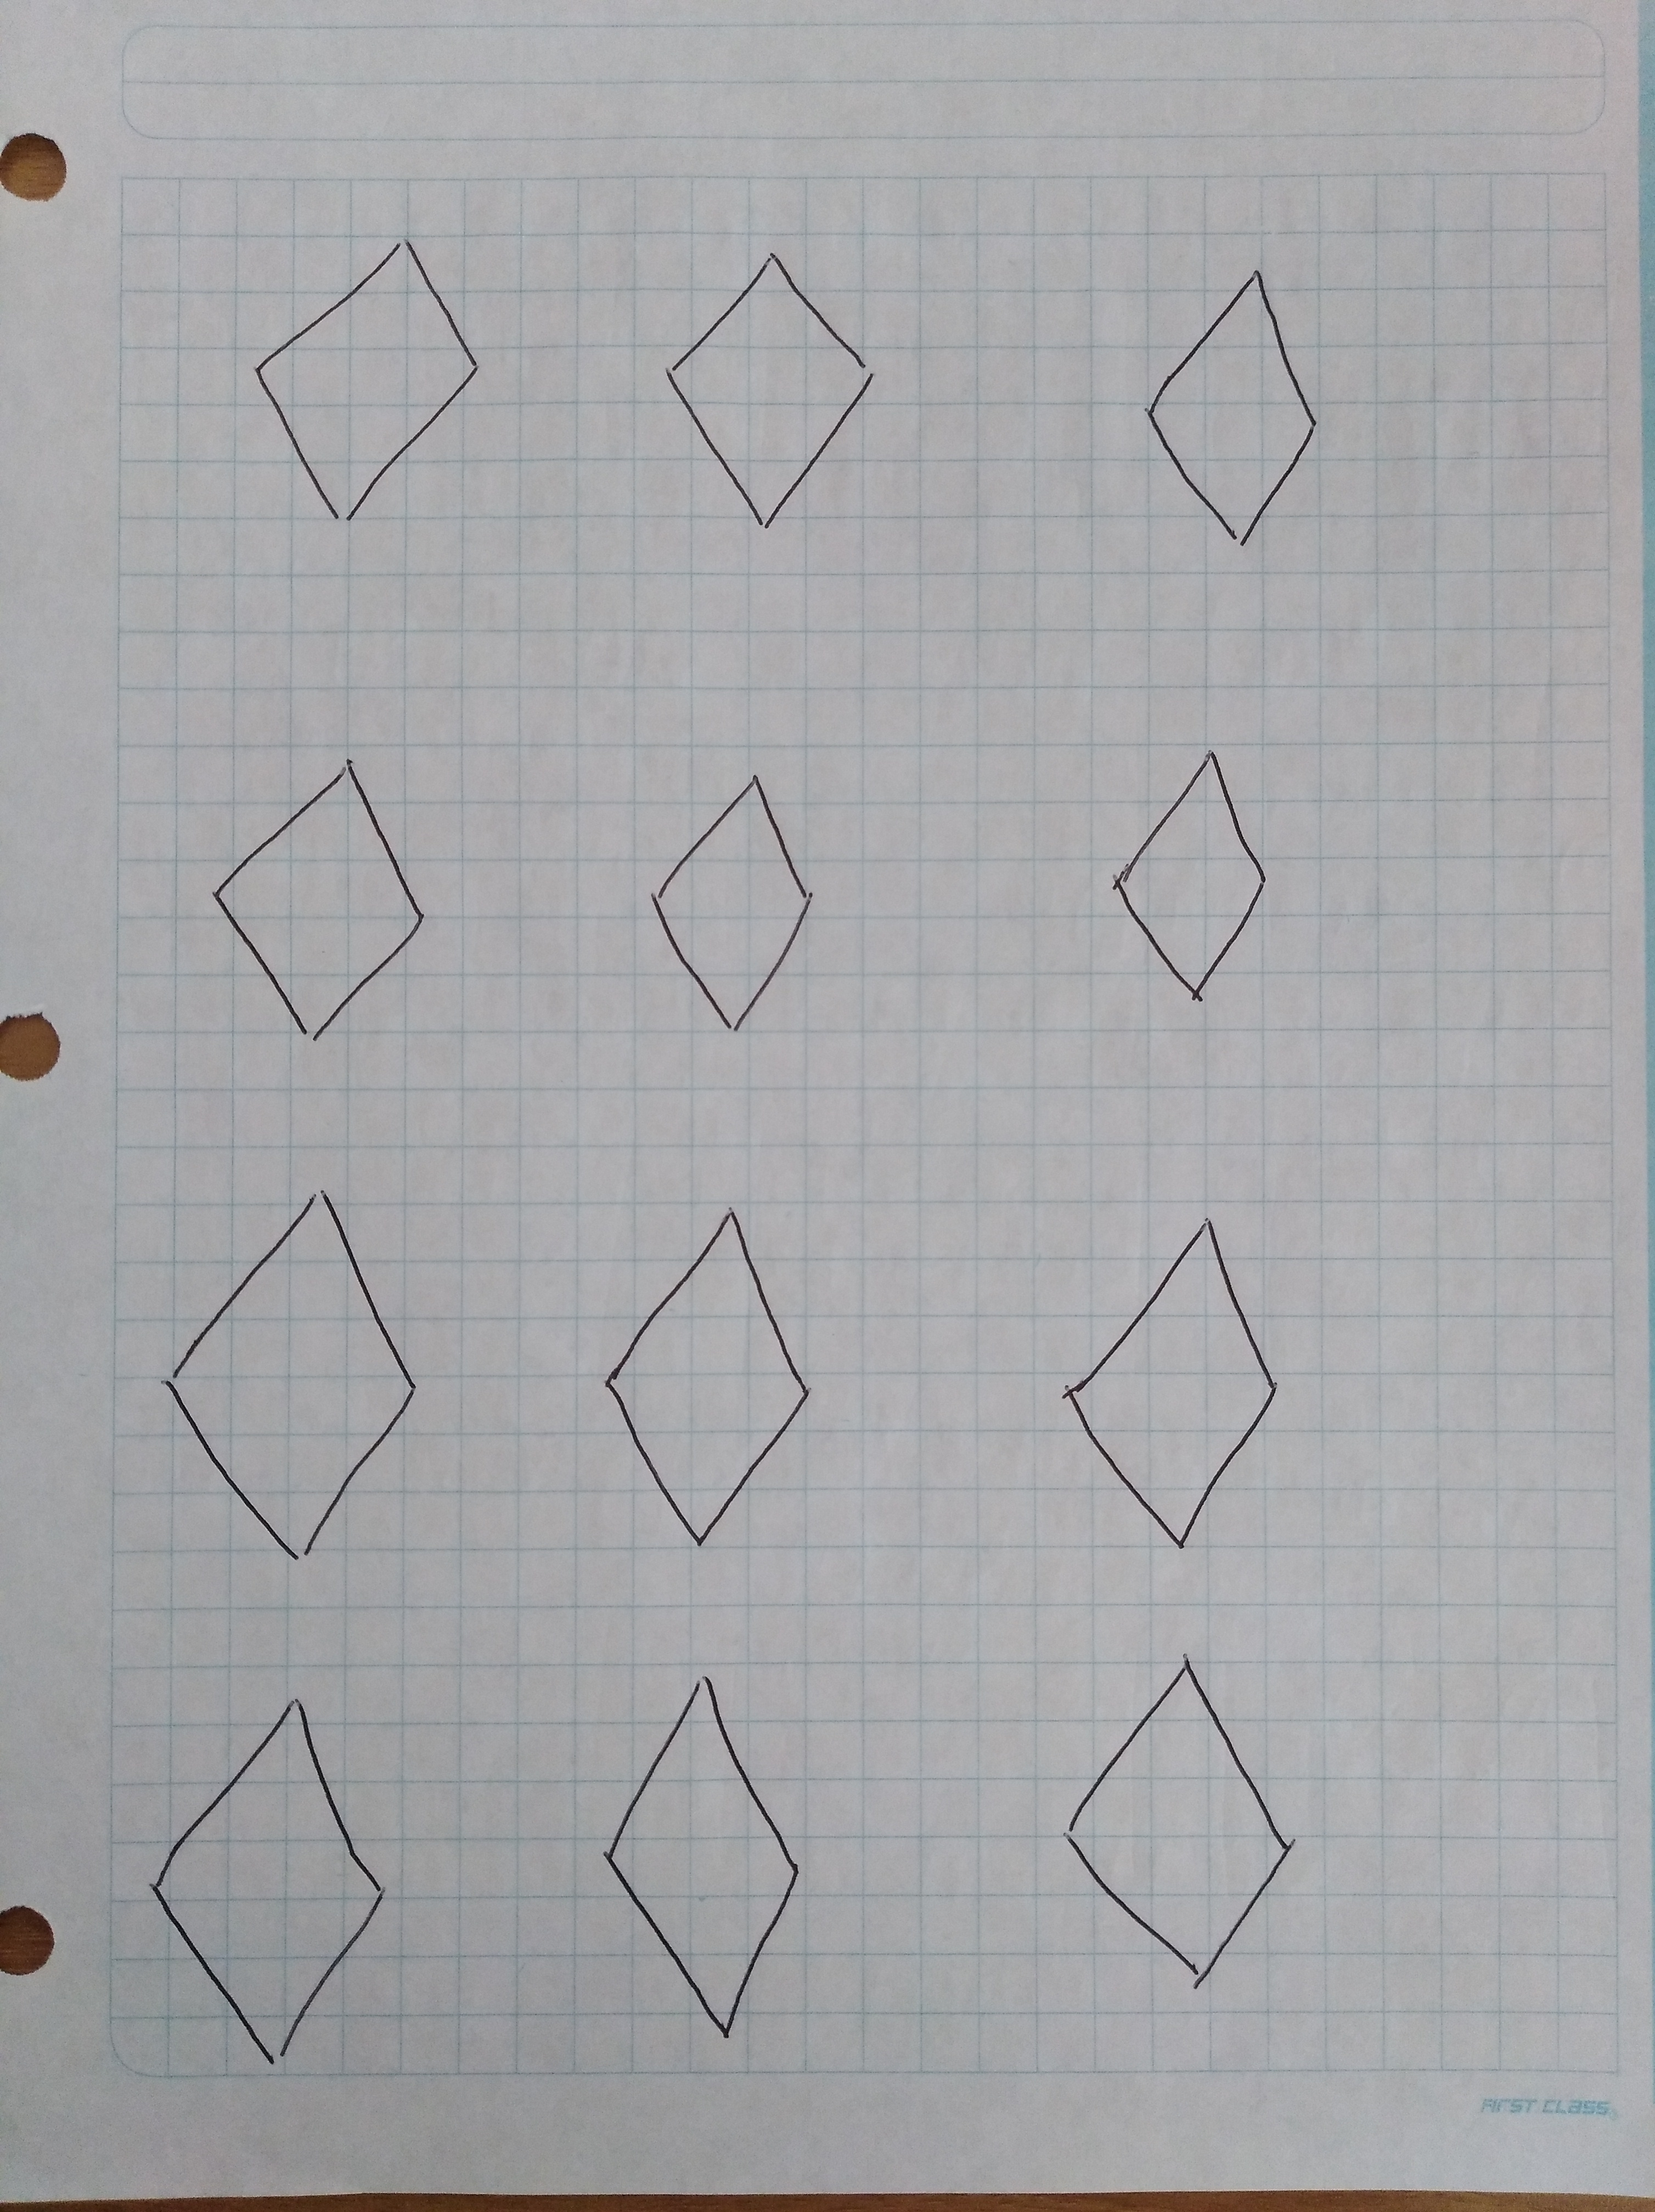decision: (127, 1150, 471, 1585), (111, 1658, 417, 2097), (565, 1654, 854, 2050), (1047, 1175, 1304, 1580), (574, 1185, 847, 1566), (1047, 1637, 1323, 2007), (636, 209, 909, 561), (226, 219, 506, 553), (183, 732, 461, 1067), (1113, 233, 1361, 582), (602, 738, 867, 1062), (1078, 711, 1304, 1034)
